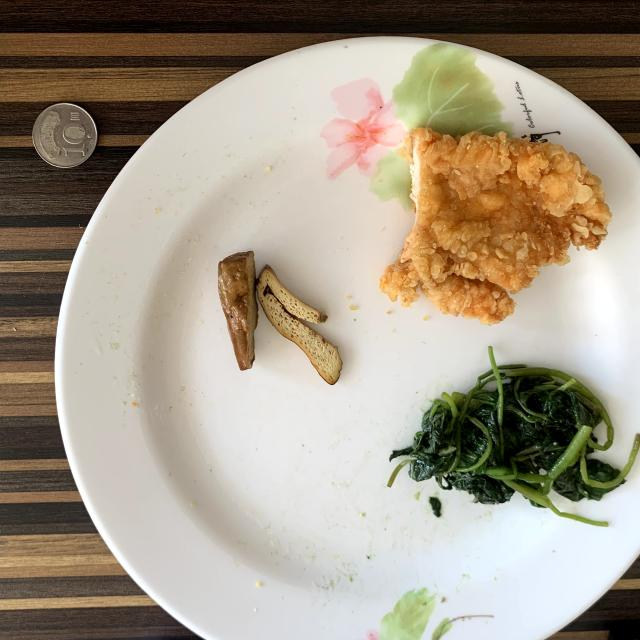coin: (32, 102, 98, 168)
firm tofu: (218, 251, 342, 385)
fried chicken cutlet: (380, 128, 611, 325)
sweet potato leaves: (388, 348, 640, 526)
